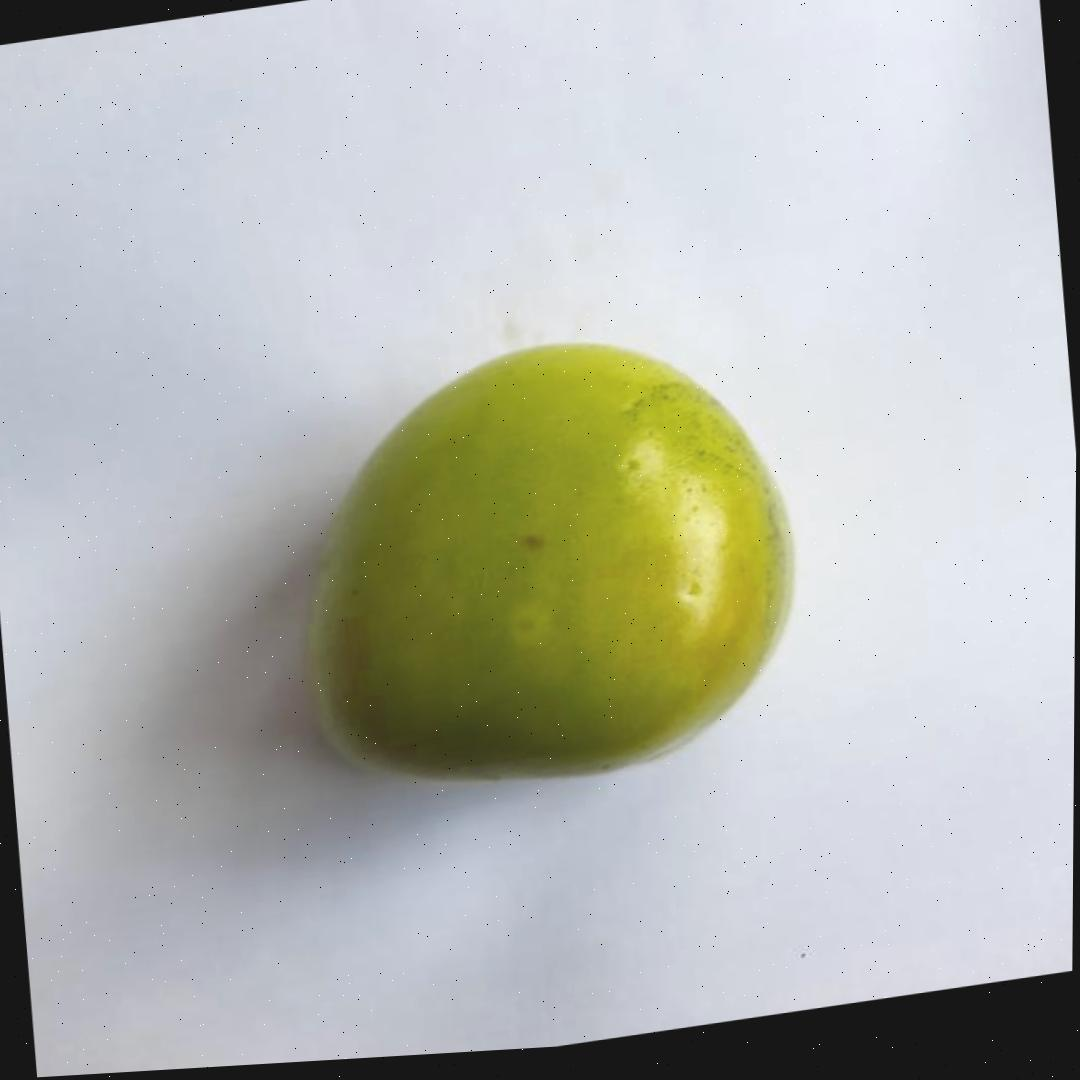mentah: (291, 310, 819, 816)
